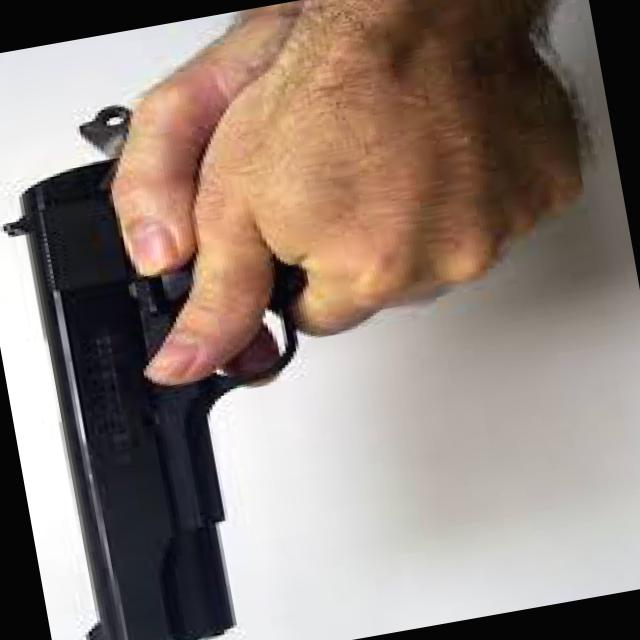handgun: (0, 74, 365, 639)
